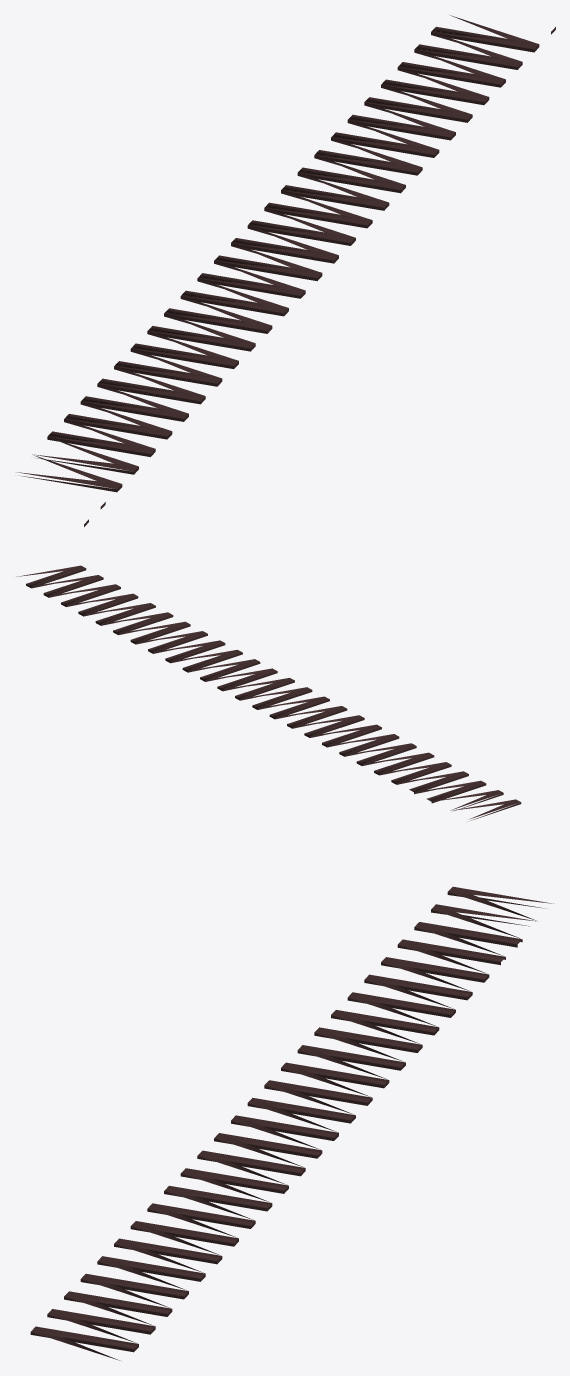
3 renders of one model, top to bottom at view 1: azimuth 90°, elevation 25°; view 2: azimuth 150°, elevation 25°; view 3: azimuth 270°, elevation 25°, orthographic. The views are drawn at different scales.
Size of the model in its own units: 23.15 by 0.064 by 10.4.
